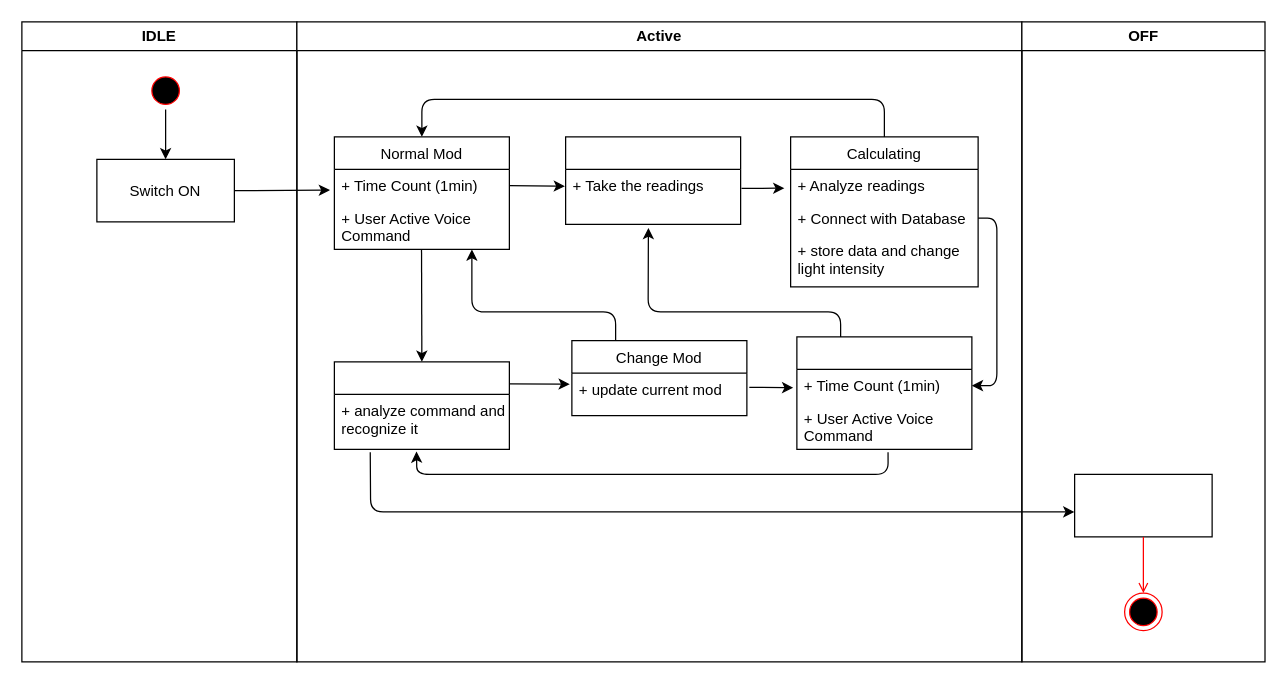
Some shapes in this 1288 by 684 pixel diagram are drawn without their labels. The shapes that lost their labels are listed below. From the top down, each one's box as (x1, y1, x2, y2) in pixels, then its label:
(564, 136, 741, 224): LDR readings
(333, 361, 509, 449): Voice command
(796, 336, 972, 449): Reading Mod
(1073, 473, 1212, 537): Switch OFF
